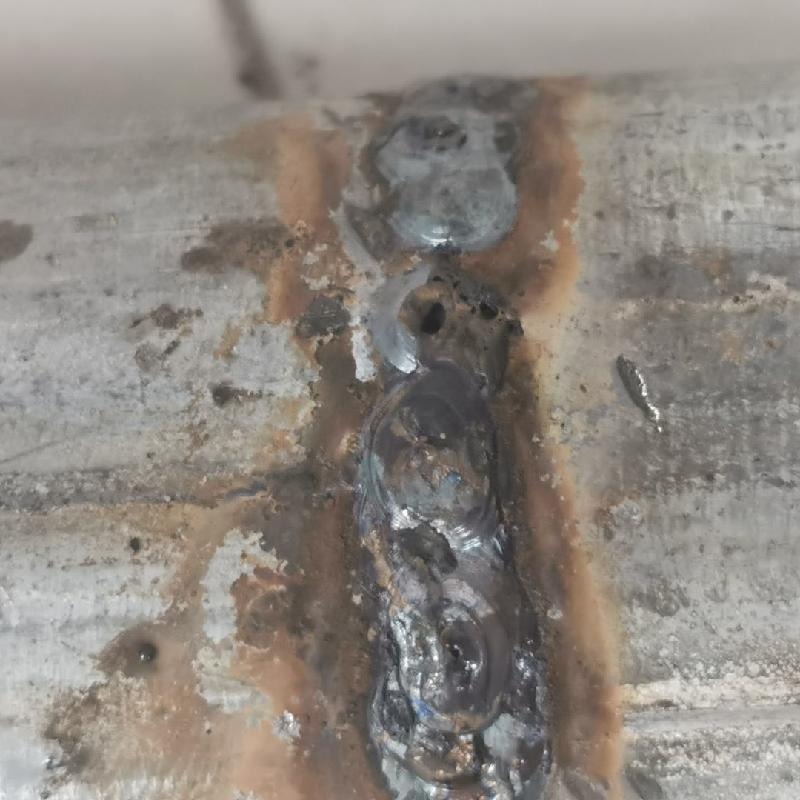Surface_pores: (402, 265, 507, 350)
crater: (376, 539, 550, 797)
wrong_size: (368, 71, 523, 533)
